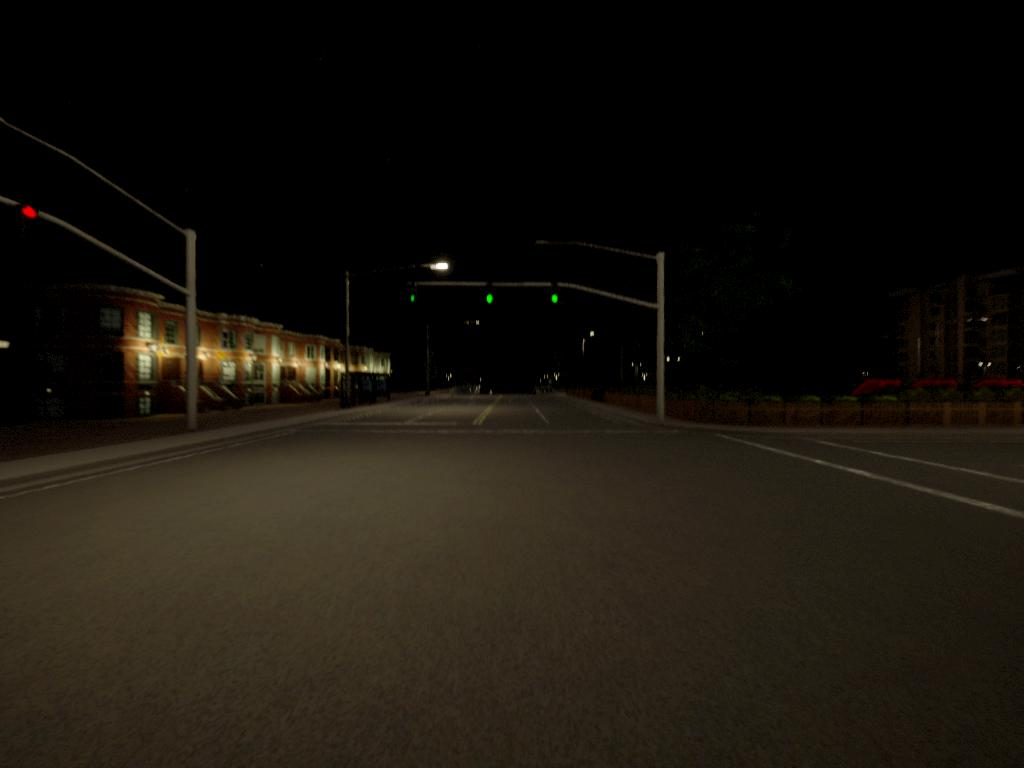traffic_light: (21, 201, 42, 235), (485, 286, 496, 308), (551, 285, 561, 308), (409, 288, 420, 305)
